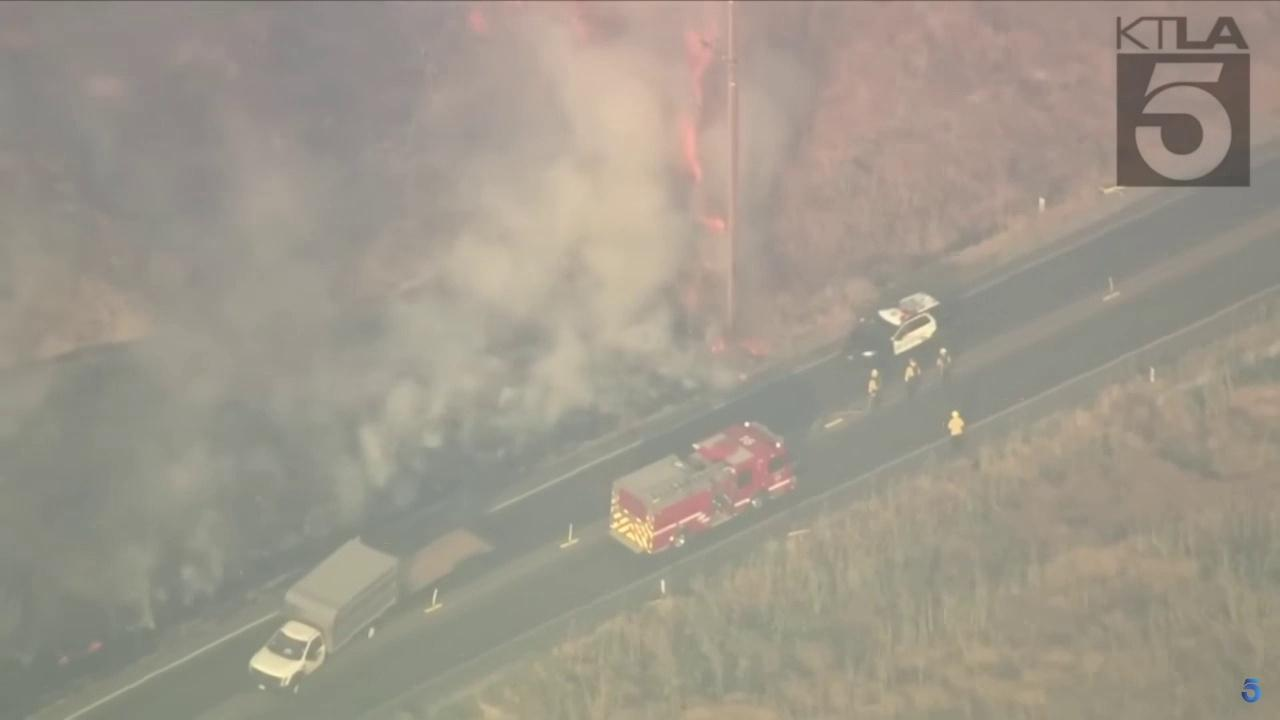fire: (679, 16, 719, 186), (734, 335, 769, 355), (467, 11, 492, 38), (697, 211, 726, 233), (709, 337, 726, 355), (84, 641, 103, 654)
smoke: (0, 0, 815, 668)
